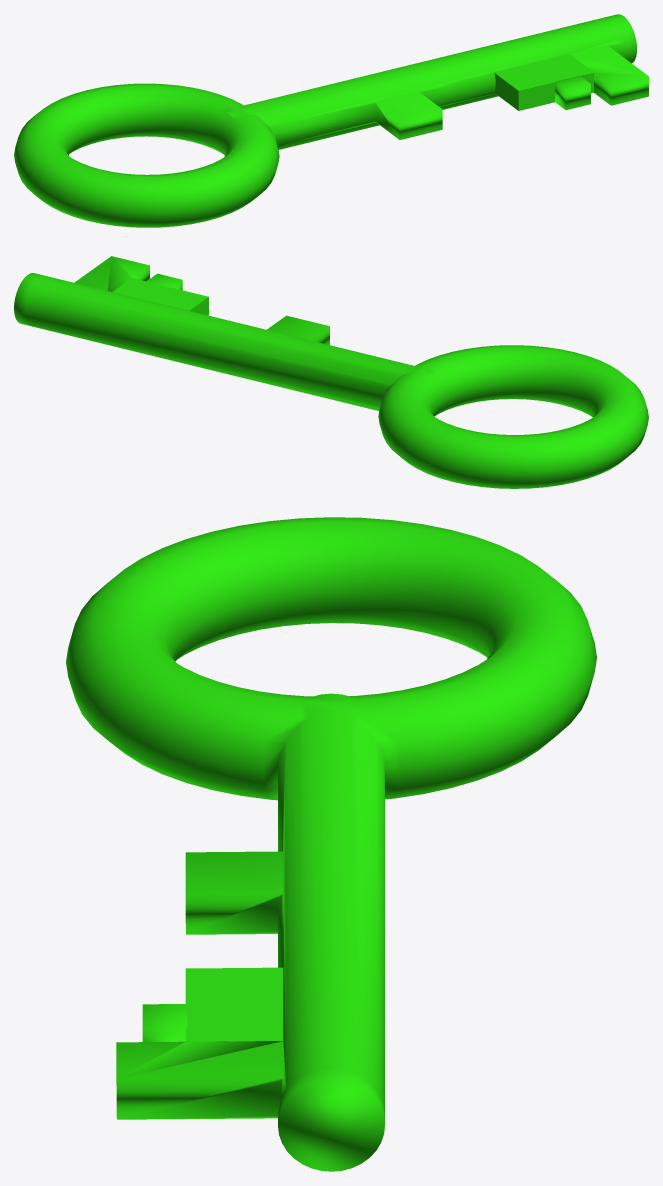
Rendered from Klucz Bo Tak 3.fbx.
3 views of the same model, one above another, from view 1: azimuth 30°, elevation 25°; view 2: azimuth 150°, elevation 25°; view 3: azimuth 270°, elevation 25° (orthographic). The views are drawn at different scales.
Parts seen in each view (by area): view 1: Klucz bo tak 3; view 2: Klucz bo tak 3; view 3: Klucz bo tak 3.
Boxes of the visible parts, x1=… form: Klucz bo tak 3: x1=14, y1=14, x2=648, y2=227; Klucz bo tak 3: x1=14, y1=256, x2=648, y2=488; Klucz bo tak 3: x1=66, y1=517, x2=596, y2=1171.
Bounding box in the file's own units: 6.43 × 0.5188 × 2.5.
